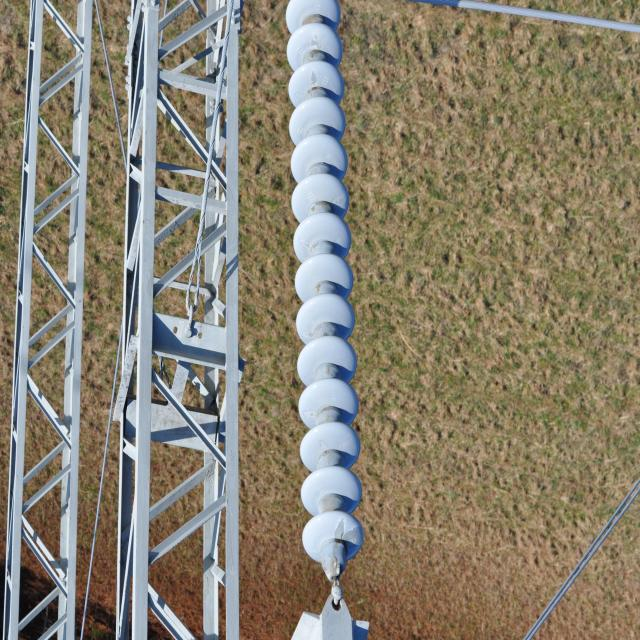insulator: (283, 0, 363, 559)
